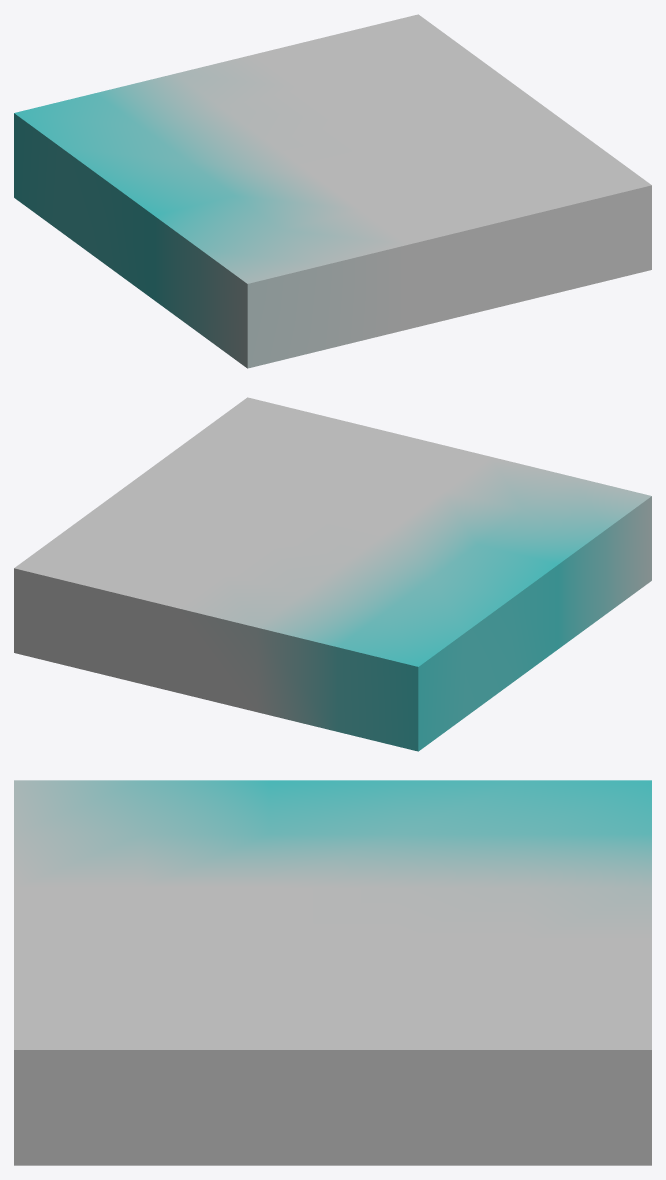
The picture shows the model from 3 angles, top to bottom: view 1: azimuth 30°, elevation 25°; view 2: azimuth 150°, elevation 25°; view 3: azimuth 270°, elevation 25°; orthographic projection. The views are drawn at different scales.
Parts seen in each view (by area): view 1: SM_Floor5x5-2_LOD0; view 2: SM_Floor5x5-2_LOD0; view 3: SM_Floor5x5-2_LOD0.
Part boxes in pixels (left/top/right/bottom): SM_Floor5x5-2_LOD0: left=14, top=14, right=651, bottom=368; SM_Floor5x5-2_LOD0: left=14, top=397, right=651, bottom=751; SM_Floor5x5-2_LOD0: left=14, top=780, right=651, bottom=1165.
Size of the model in its own units: 500 by 500 by 100.
